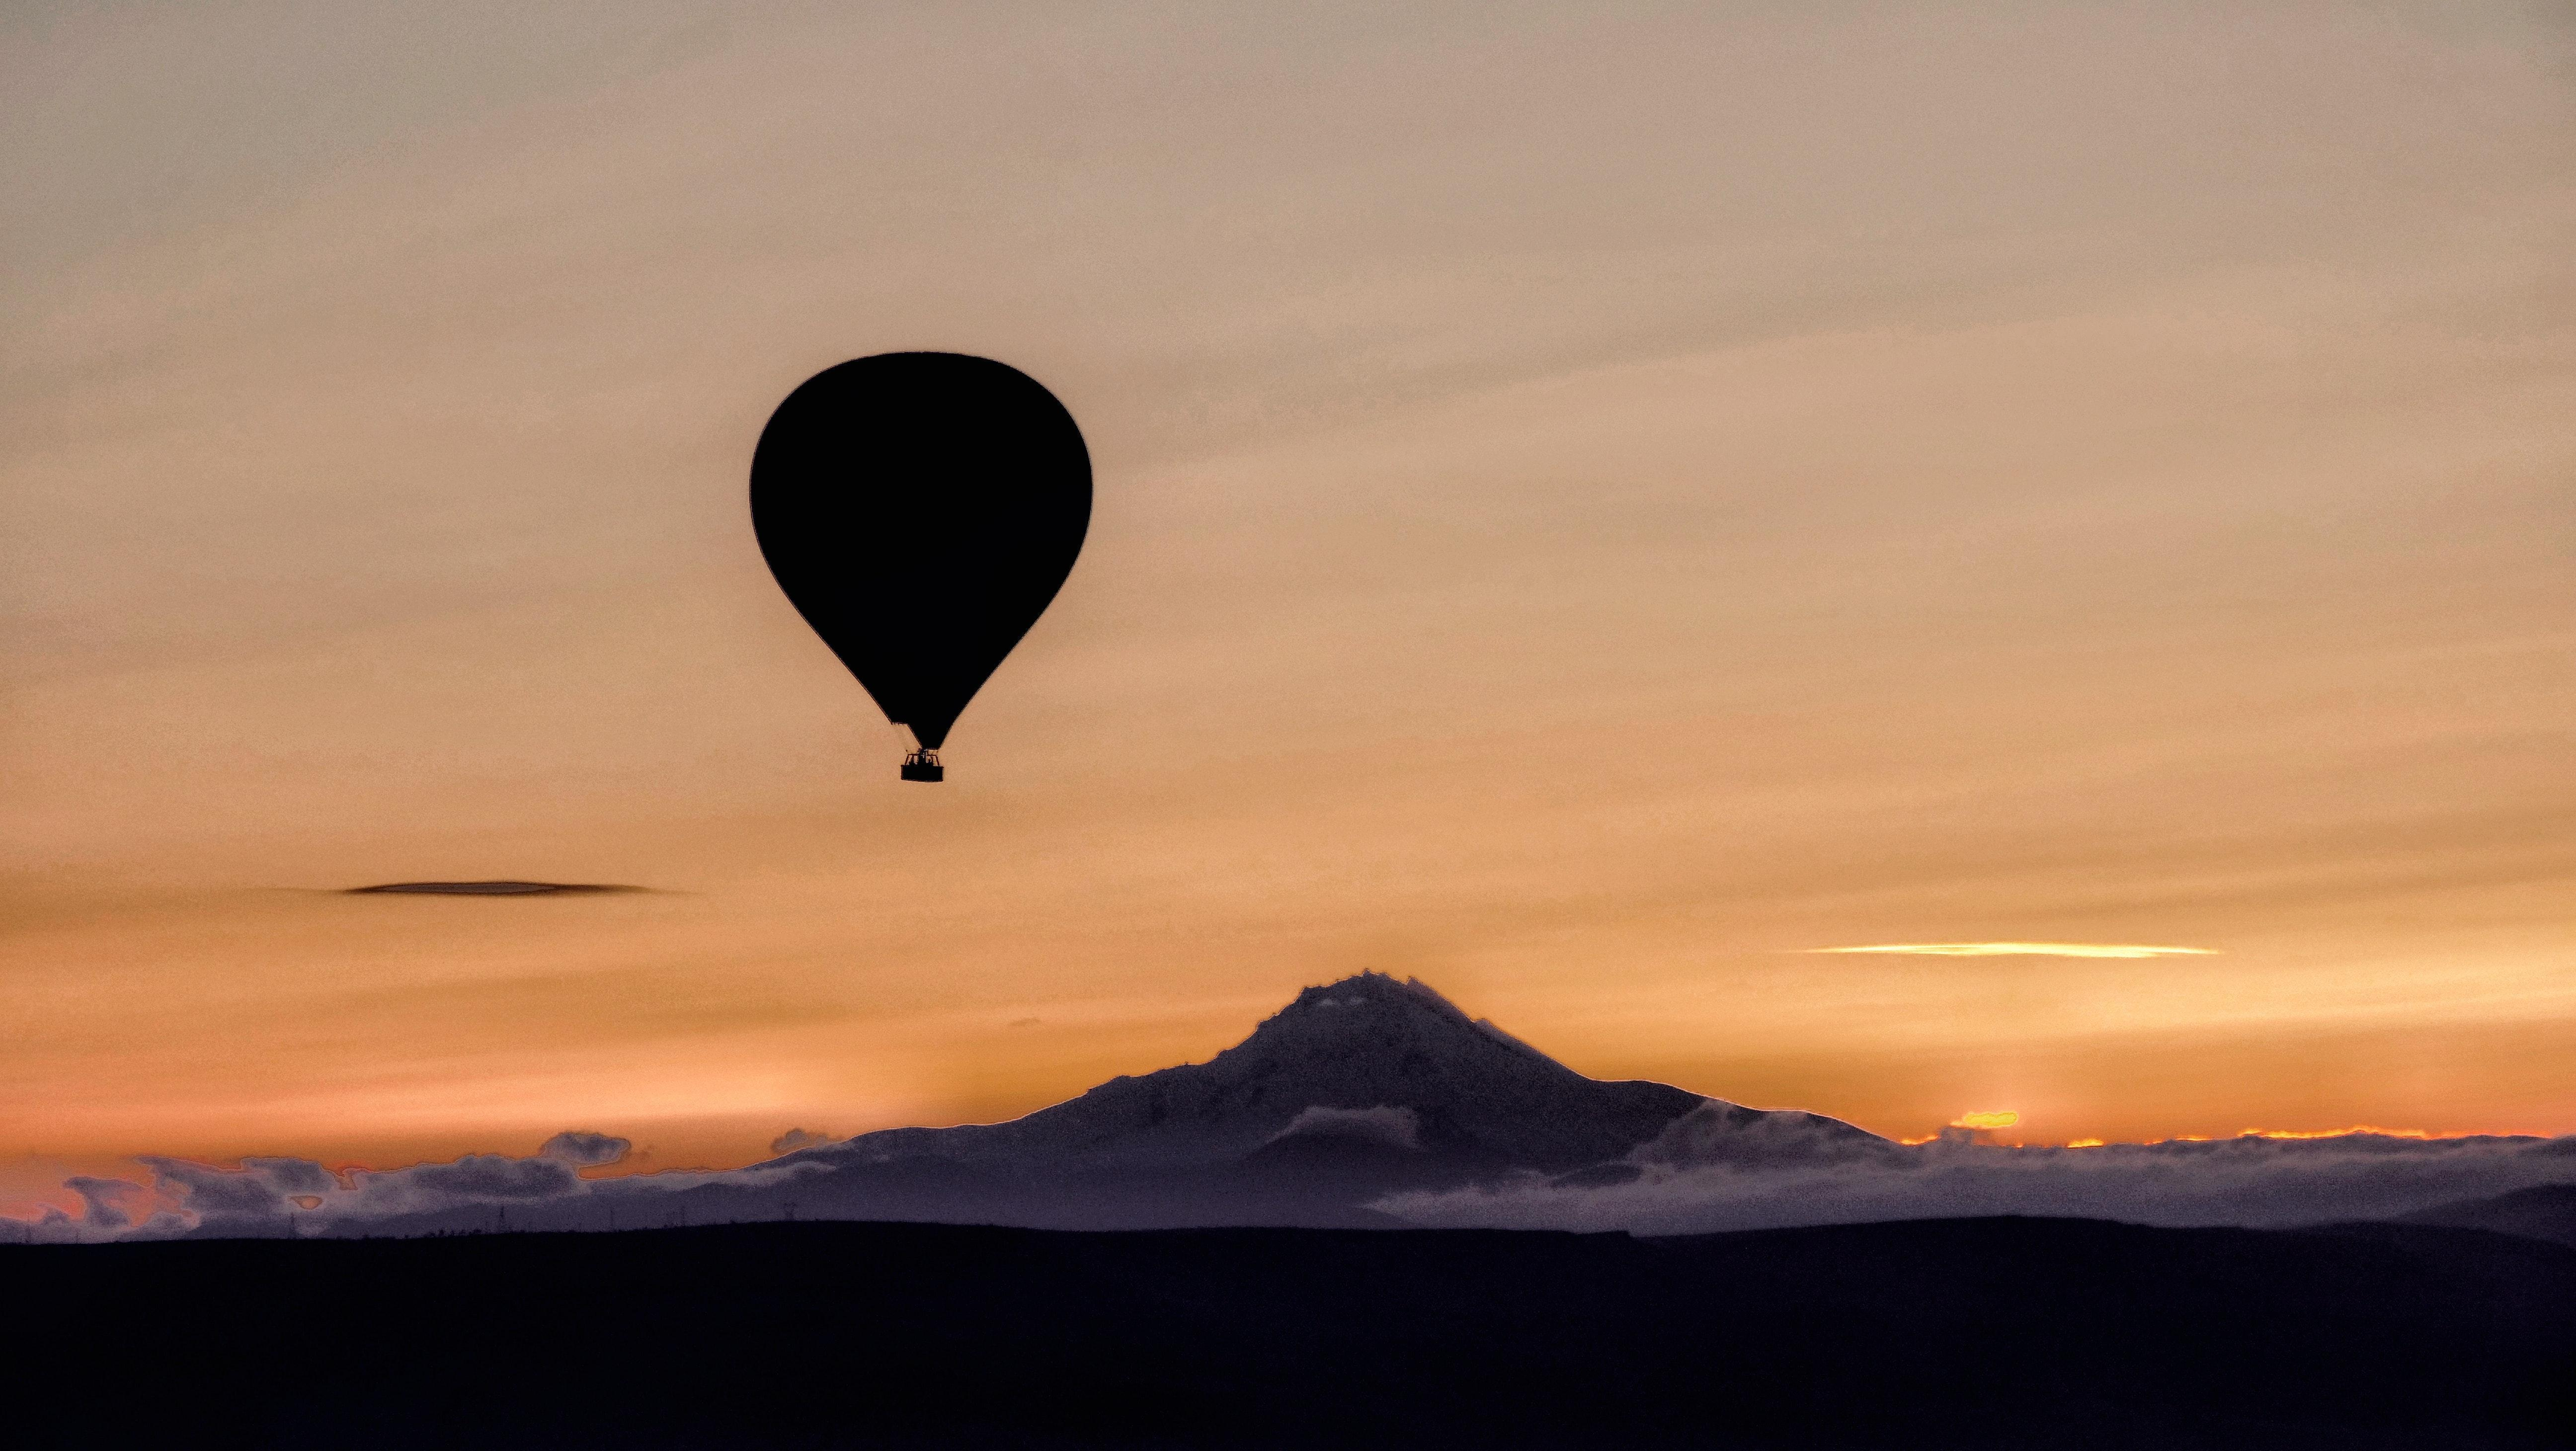hot air ballon: (743, 336, 1097, 787)
